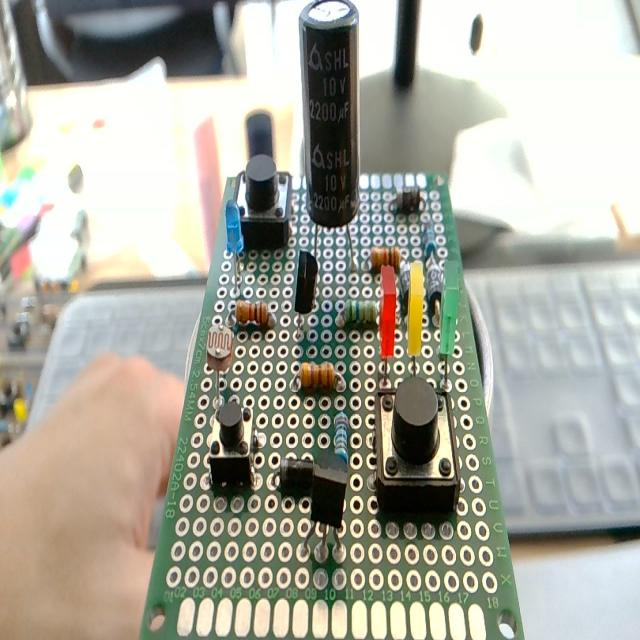Electrolytic capacitor: (298, 0, 363, 274)
cds: (203, 316, 238, 409)
diode: (270, 448, 321, 492)
led: (437, 256, 462, 388), (374, 263, 396, 389), (222, 197, 249, 297), (406, 259, 423, 383)
resistor: (225, 294, 283, 334), (287, 356, 345, 396), (337, 294, 378, 328), (331, 406, 350, 470), (366, 243, 406, 270)
switch: (369, 373, 467, 522), (234, 153, 294, 251), (206, 397, 260, 496)
transistor: (304, 450, 350, 570), (289, 249, 324, 343)
